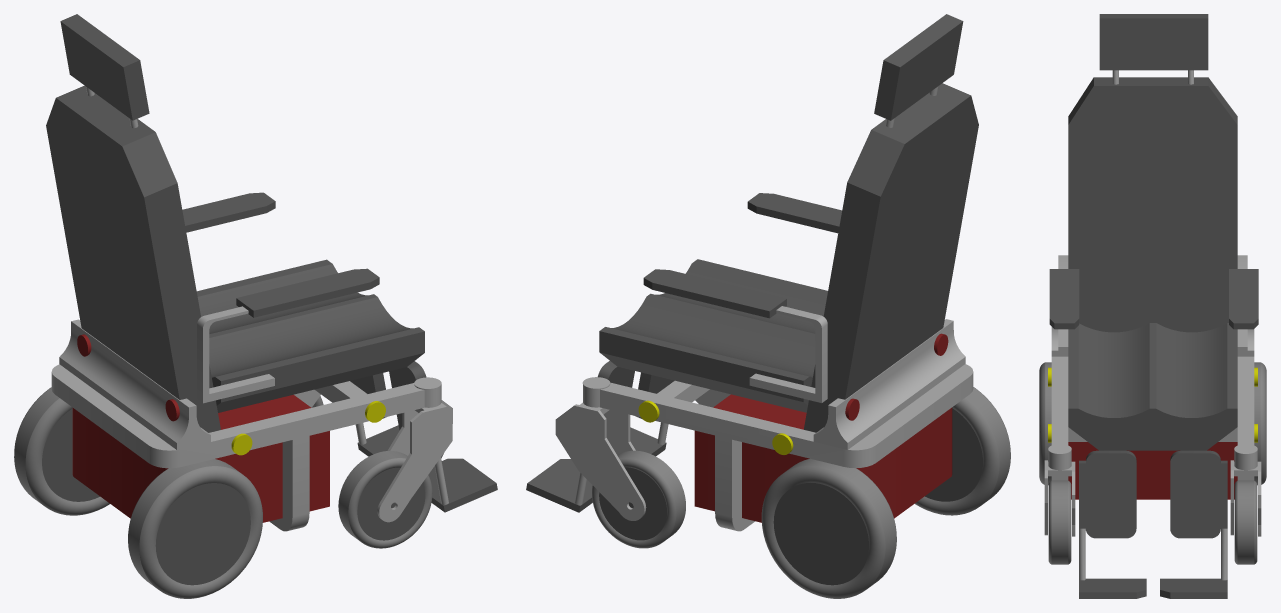
The model's file is wheelchair.obj.
3 views of the same model, side by side, from view 1: azimuth 30°, elevation 25°; view 2: azimuth 150°, elevation 25°; view 3: azimuth 270°, elevation 25° (orthographic). The views are drawn at different scales.
Parts seen in each view (by area): view 1: rueckenlehne, sitz, rad_hinten_rechts, gestell1, motor, gestell3, rad_hinten_links, lehne_rechts, rad_vorne_rechts, rad_auf_rechts, gestell2, fuss_rechts2 (+4 smaller); view 2: rueckenlehne, sitz, rad_hinten_links, gestell1, motor, gestell3, rad_hinten_rechts, rad_auf_links, lehne_links, rad_vorne_links, gestell2, lehne_rechts (+3 smaller); view 3: rueckenlehne, sitz, fuss_links, fuss_rechts, gestell1, motor, lehne_rechts, lehne_links, rad_vorne_links, rad_vorne_rechts, fuss_rechts2, fuss_links2 (+5 smaller).
Part boxes in pixels (bbox=[...]): rueckenlehne: bbox=[46, 14, 220, 432]; sitz: bbox=[196, 259, 424, 412]; rad_hinten_rechts: bbox=[128, 459, 262, 598]; gestell1: bbox=[51, 364, 441, 468]; motor: bbox=[72, 394, 329, 522]; gestell3: bbox=[59, 319, 210, 450]; rad_hinten_links: bbox=[14, 387, 109, 515]; lehne_rechts: bbox=[197, 268, 379, 403]; rad_vorne_rechts: bbox=[338, 451, 432, 548]; rad_auf_rechts: bbox=[377, 377, 452, 522]; gestell2: bbox=[269, 436, 309, 531]; fuss_rechts2: bbox=[428, 458, 497, 512]; rueckenlehne: bbox=[804, 14, 978, 432]; sitz: bbox=[599, 259, 827, 412]; rad_hinten_links: bbox=[761, 458, 896, 598]; gestell1: bbox=[583, 364, 973, 468]; motor: bbox=[694, 394, 952, 522]; gestell3: bbox=[813, 319, 965, 449]; rad_hinten_rechts: bbox=[915, 387, 1010, 515]; rad_auf_links: bbox=[555, 377, 646, 520]; lehne_links: bbox=[643, 269, 827, 402]; rad_vorne_links: bbox=[592, 450, 685, 548]; gestell2: bbox=[715, 435, 754, 531]; lehne_rechts: bbox=[747, 193, 842, 233]; rueckenlehne: bbox=[1068, 14, 1237, 332]; sitz: bbox=[1068, 323, 1237, 450]; fuss_links: bbox=[1170, 450, 1227, 580]; fuss_rechts: bbox=[1079, 450, 1136, 580]; gestell1: bbox=[1048, 356, 1257, 470]; motor: bbox=[1068, 442, 1237, 499]; lehne_rechts: bbox=[1049, 255, 1079, 353]; lehne_links: bbox=[1229, 255, 1258, 353]; rad_vorne_links: bbox=[1234, 480, 1257, 564]; rad_vorne_rechts: bbox=[1048, 480, 1071, 564]; fuss_rechts2: bbox=[1079, 578, 1146, 598]; fuss_links2: bbox=[1160, 578, 1227, 598].
Size of the model in its own units: 0.9312 by 1.23 by 0.5623.
